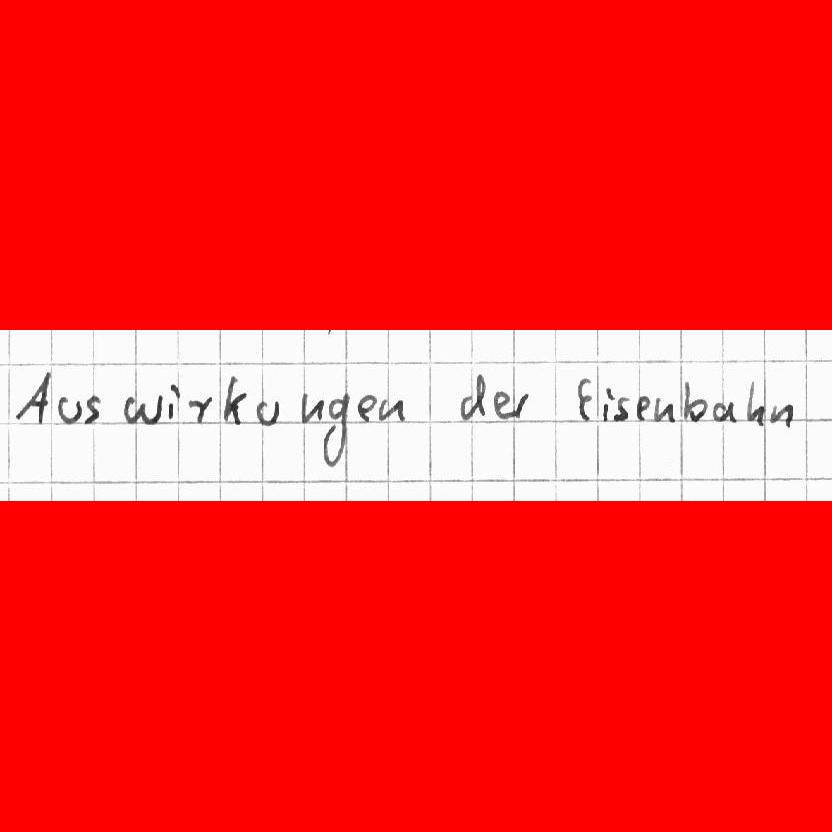Char: (320, 392, 349, 469), (14, 372, 52, 426), (458, 370, 487, 423), (219, 376, 248, 428), (122, 390, 161, 427), (680, 381, 707, 422), (298, 387, 326, 426), (743, 380, 765, 426), (575, 377, 594, 425), (186, 394, 213, 424), (378, 396, 406, 424), (254, 398, 280, 428), (56, 395, 81, 422), (711, 399, 738, 424), (769, 400, 793, 428), (654, 396, 677, 423), (356, 392, 376, 423), (83, 393, 102, 424), (166, 379, 179, 423), (492, 390, 511, 420), (510, 392, 530, 420), (613, 394, 630, 423), (636, 394, 652, 422), (602, 386, 611, 420)
